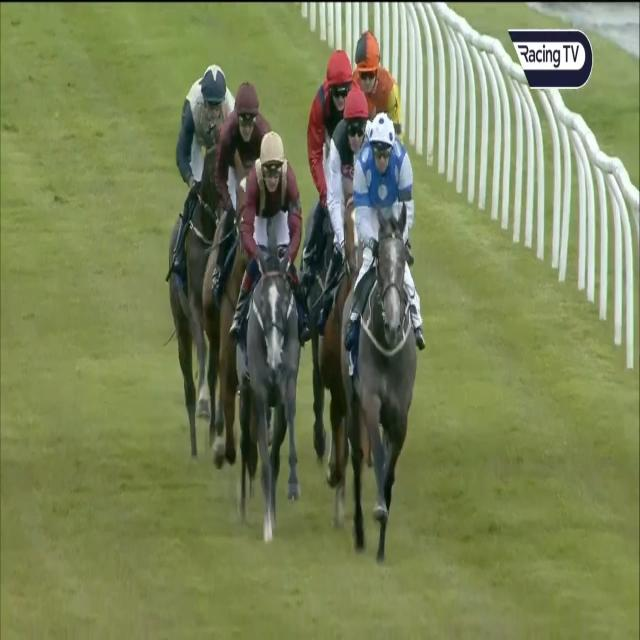horses-racing: (346, 116, 448, 574), (226, 126, 316, 562), (169, 46, 234, 499), (319, 93, 406, 240), (215, 70, 277, 258), (296, 49, 368, 204), (355, 21, 428, 139)
